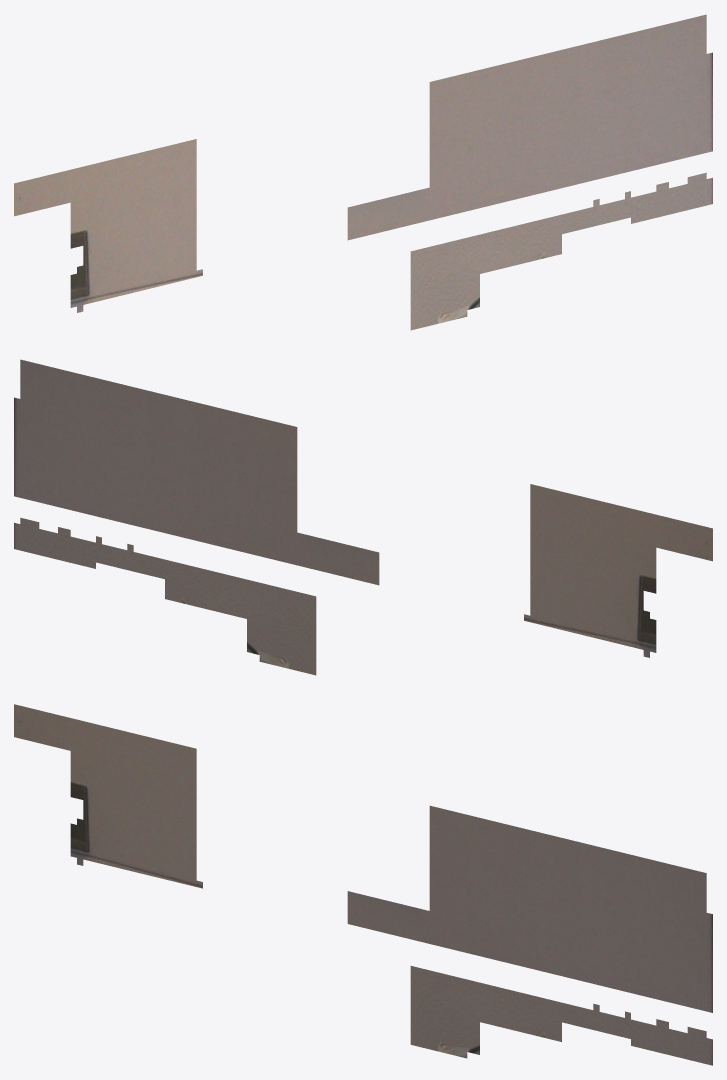
File: region.obj
3 renders of one model, top to bottom at view 1: azimuth 30°, elevation 25°; view 2: azimuth 150°, elevation 25°; view 3: azimuth 330°, elevation 25°, orthographic.
Visible parts, largest first — view 1: owned_material_region; view 2: owned_material_region; view 3: owned_material_region.
Boxes of the visible parts, left/top/right/bottom form: owned_material_region: left=14, top=14, right=712, bottom=330; owned_material_region: left=14, top=359, right=712, bottom=675; owned_material_region: left=14, top=704, right=712, bottom=1065.
Bounding box in the file's own units: 0.9867 × 0.3289 × 0.
Materials: 1 (1 with a texture image).
